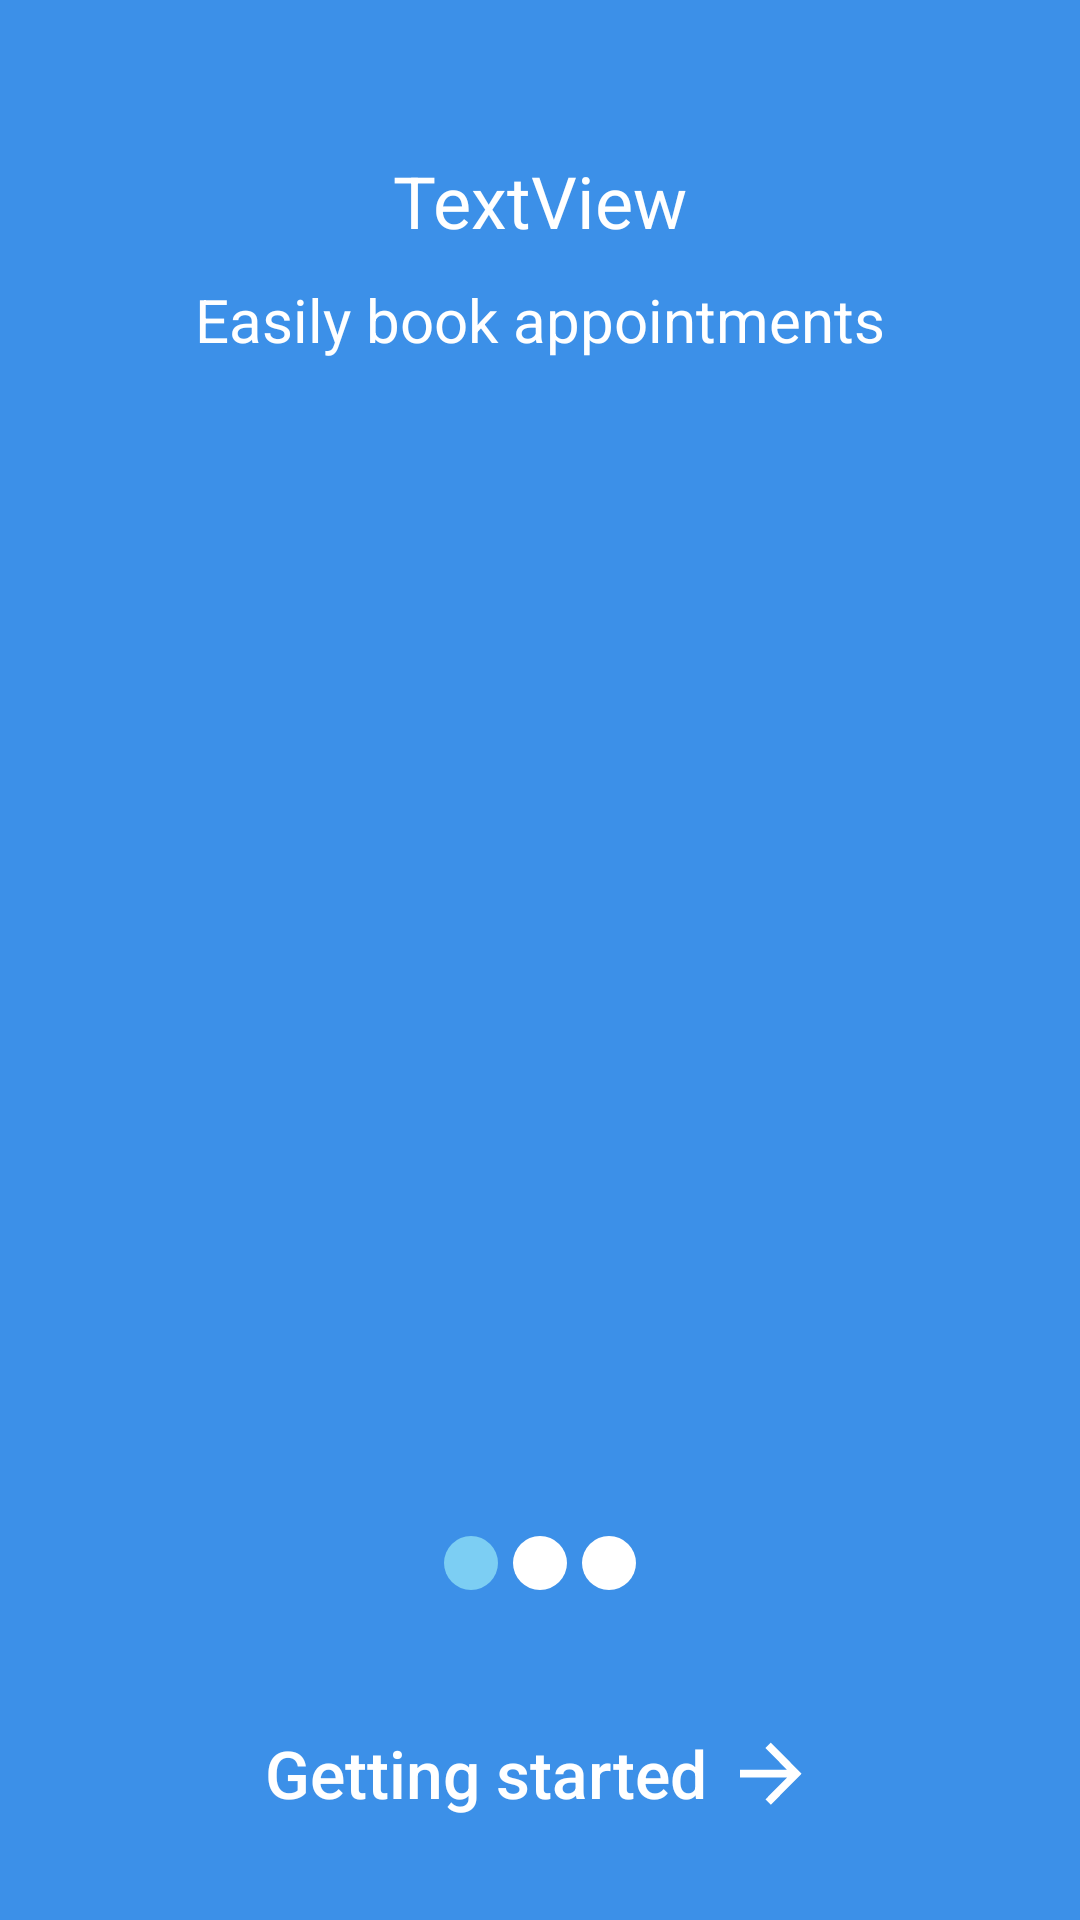

Icons on this 1080×1920 Android screen, each with its box as Rect(x1, y1, x2, y2):
indecator: Rect(444, 1536, 498, 1590), Rect(513, 1536, 567, 1590), Rect(582, 1536, 636, 1590)
